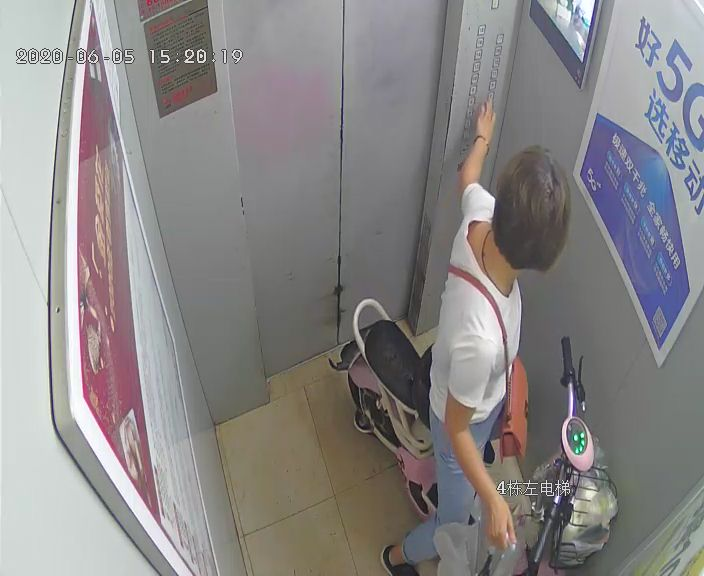Electric-bicycle: (331, 297, 618, 573)
